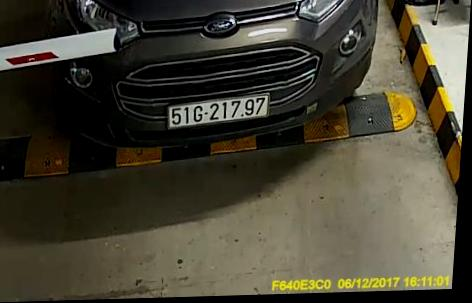License_Plate: (159, 88, 276, 133)
